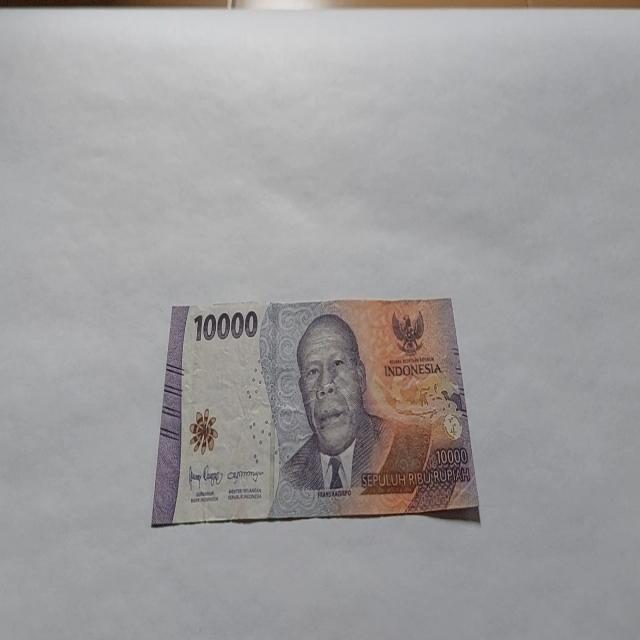sepuluh ribu rupiah: (150, 295, 480, 527)
